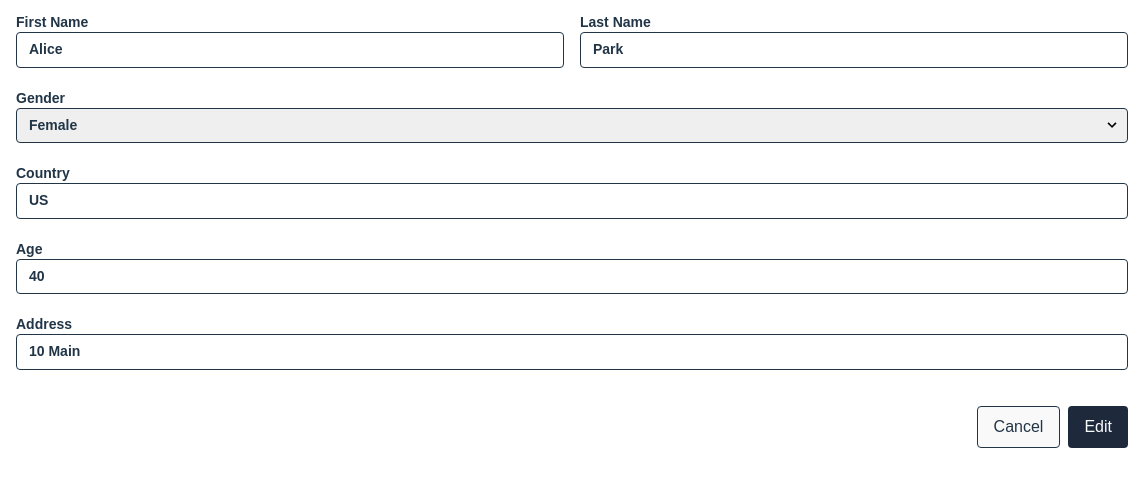
Test: Admin form flows › shows doctor update server error
The image size is (1145, 497).
Step 1. Click the button "Edit" → (1098, 426), box [1068,406,1128,448]
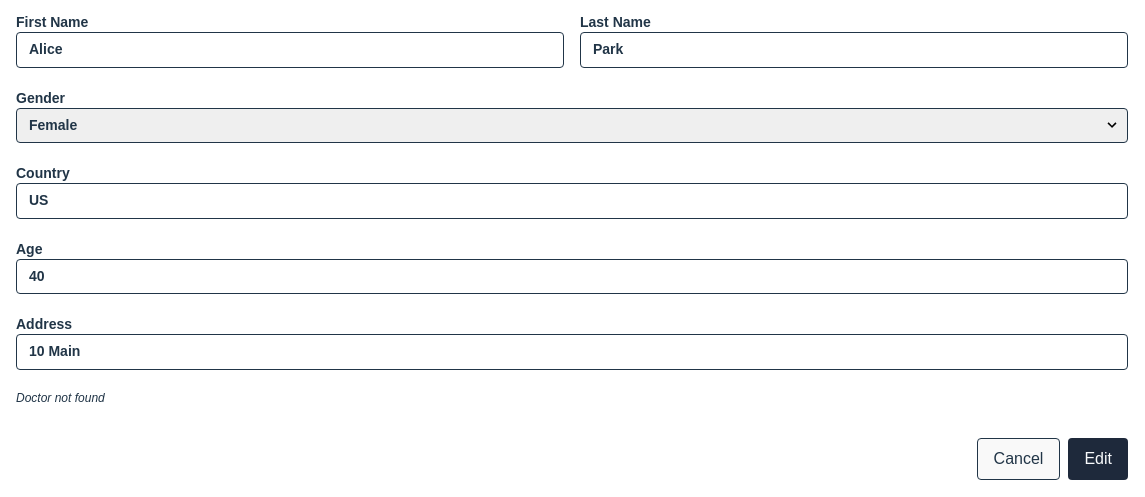
Now the text "Doctor not found" is shown, box [16,390,105,404]
